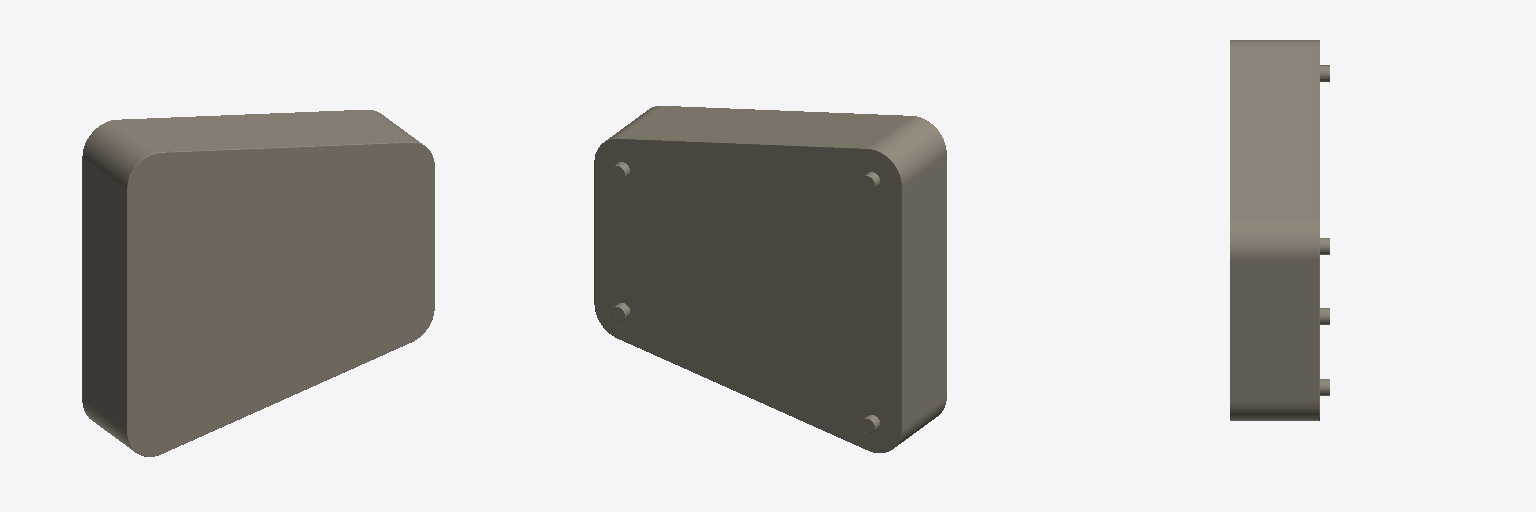
Rendered from Molteni_Mayfair_Table_V1_mat(2).obj.
The picture shows the model from 3 angles: view 1: azimuth 30°, elevation 25°; view 2: azimuth 150°, elevation 25°; view 3: azimuth 270°, elevation 25°; orthographic projection.
Visible parts, largest first — view 1: Molteni_Mayfair_Table_V1_mat2; view 2: Molteni_Mayfair_Table_V1_mat2; view 3: Molteni_Mayfair_Table_V1_mat2.
Boxes of the visible parts, box(x1,y1,x2,y2) form: Molteni_Mayfair_Table_V1_mat2: box(82, 110, 434, 456); Molteni_Mayfair_Table_V1_mat2: box(594, 106, 946, 452); Molteni_Mayfair_Table_V1_mat2: box(1230, 40, 1329, 420).
Size of the model in its own units: 85 by 80 by 24.